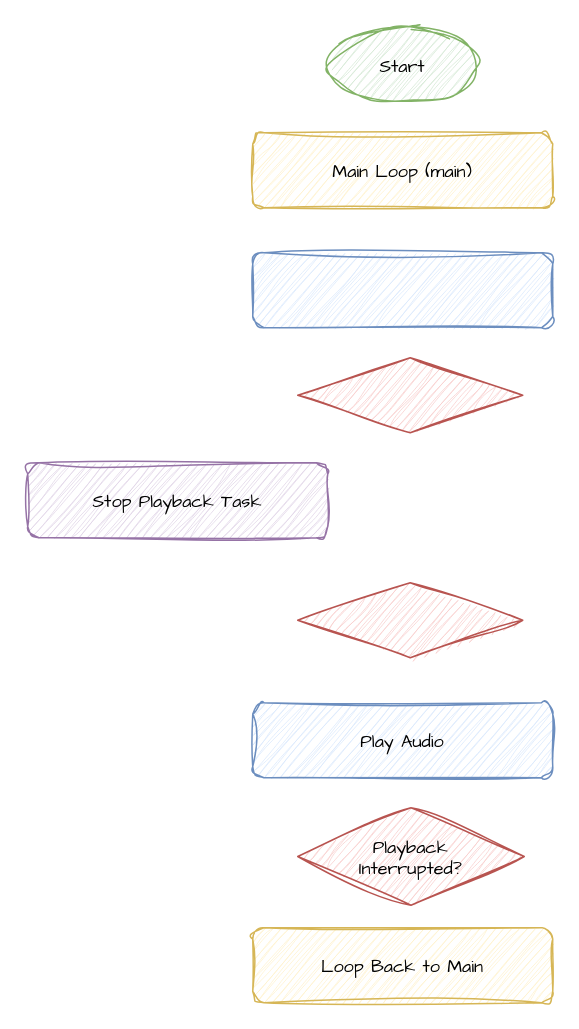
This 579x1029 diagram has some shape labels left out. The box of each missing label's shape, as (x1, y1, x2, y2) in pixels:
Record Audio: (251, 251, 553, 328)
Silence Detected?: (296, 581, 523, 658)
User Speaking?: (296, 356, 523, 433)
